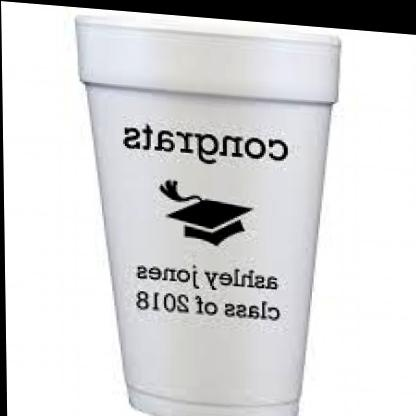trash: (76, 14, 339, 415)
